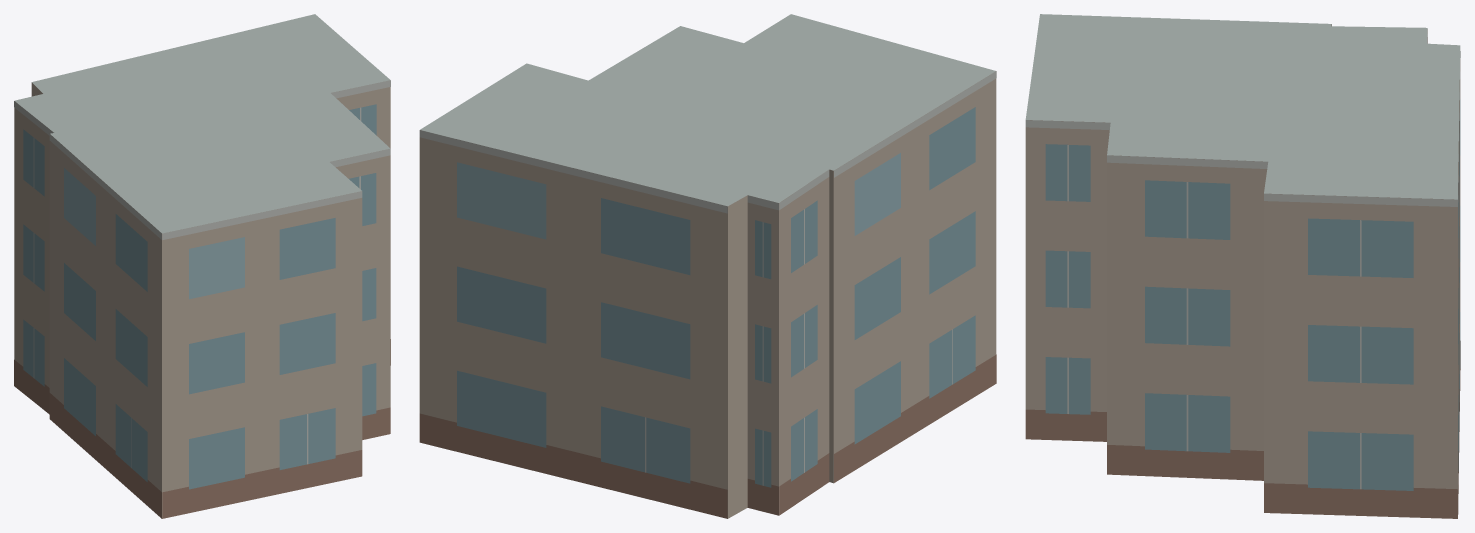
File: survey-upis-32469967.glb
3 views of the same model, side by side, from view 1: azimuth 30°, elevation 25°; view 2: azimuth 150°, elevation 25°; view 3: azimuth 270°, elevation 25° (orthographic). The views are drawn at different scales.
Visible parts, largest first — view 1: survey-upis-32469967.tmp; view 2: survey-upis-32469967.tmp; view 3: survey-upis-32469967.tmp.
Part boxes in pixels (box(x1,y1,x2,y2)): survey-upis-32469967.tmp: box(14, 14, 390, 518); survey-upis-32469967.tmp: box(419, 14, 996, 518); survey-upis-32469967.tmp: box(1025, 14, 1460, 518).
Size of the model in its own units: 12.97 by 10.4 by 12.85.
